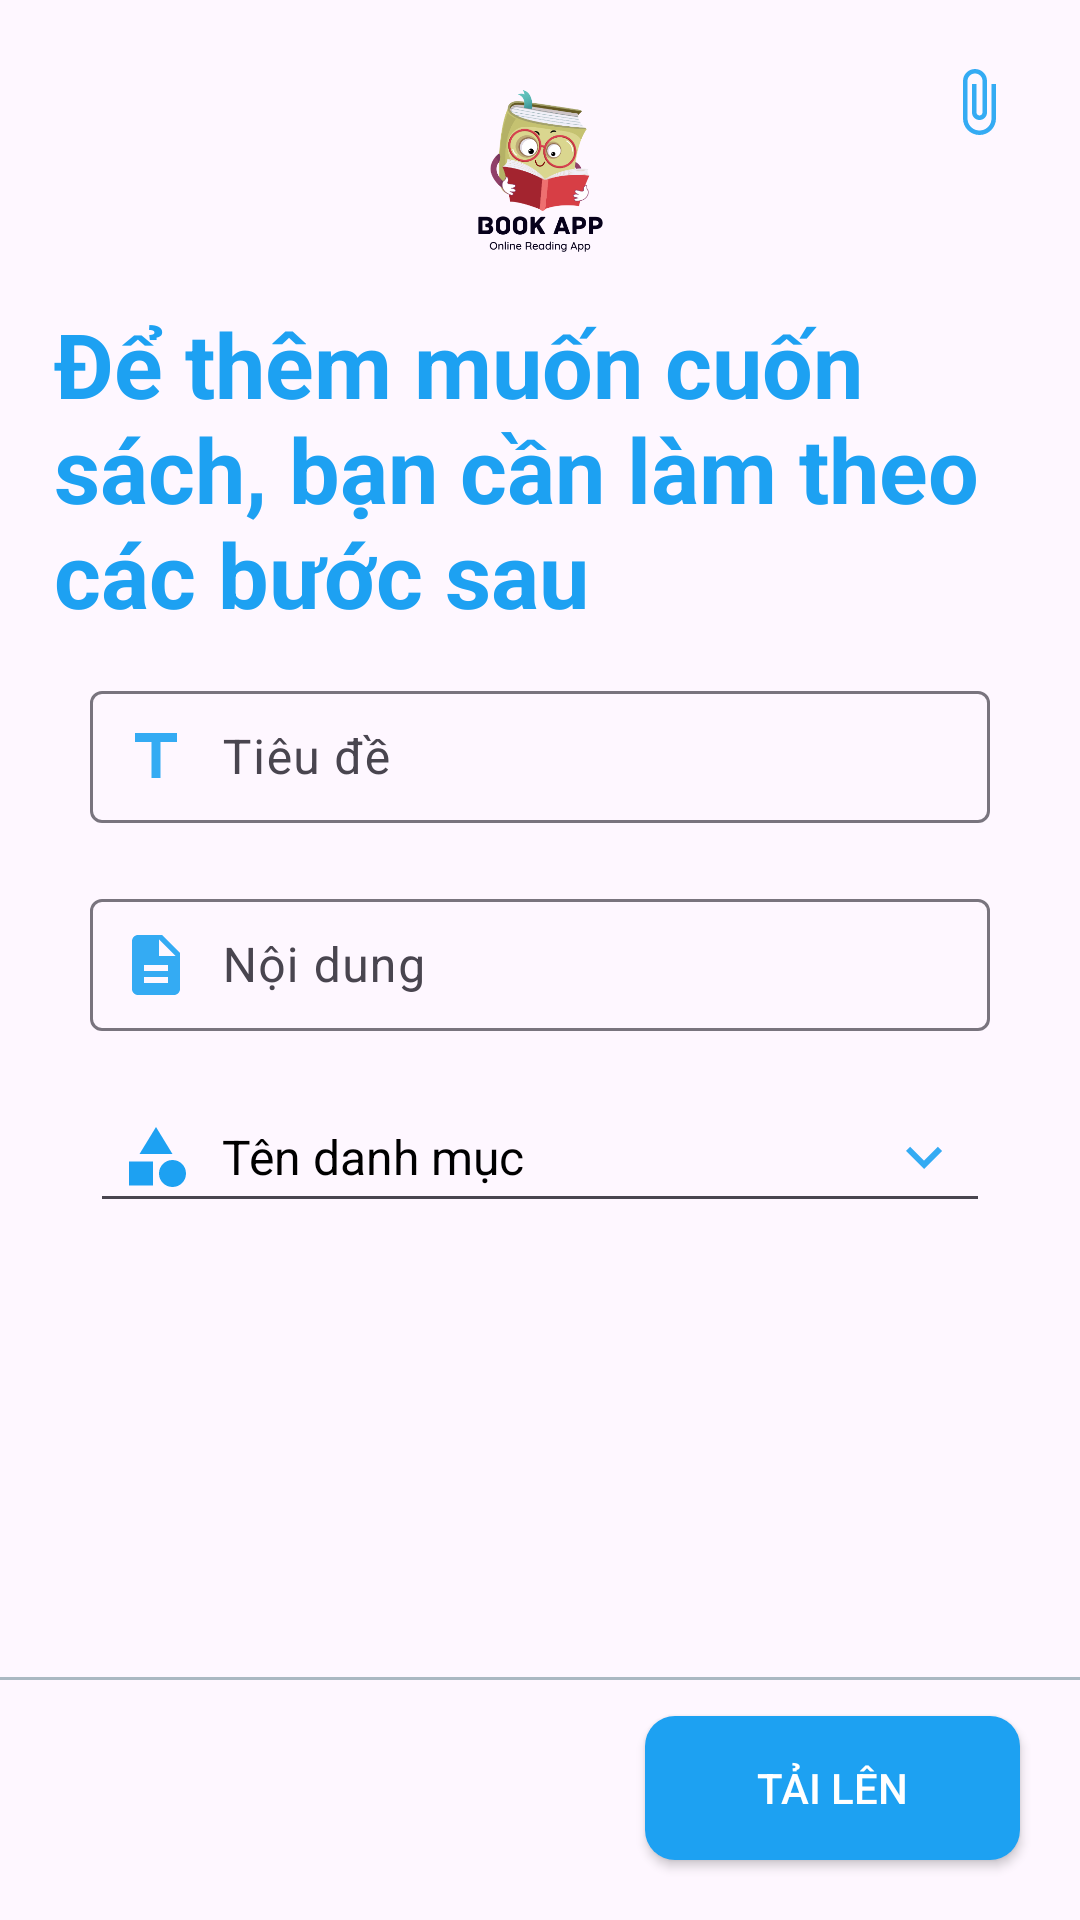

Named icons in this screenshot (1080*1920) and their centers, (x=x, y=y):
attach file: (x=979, y=102)
